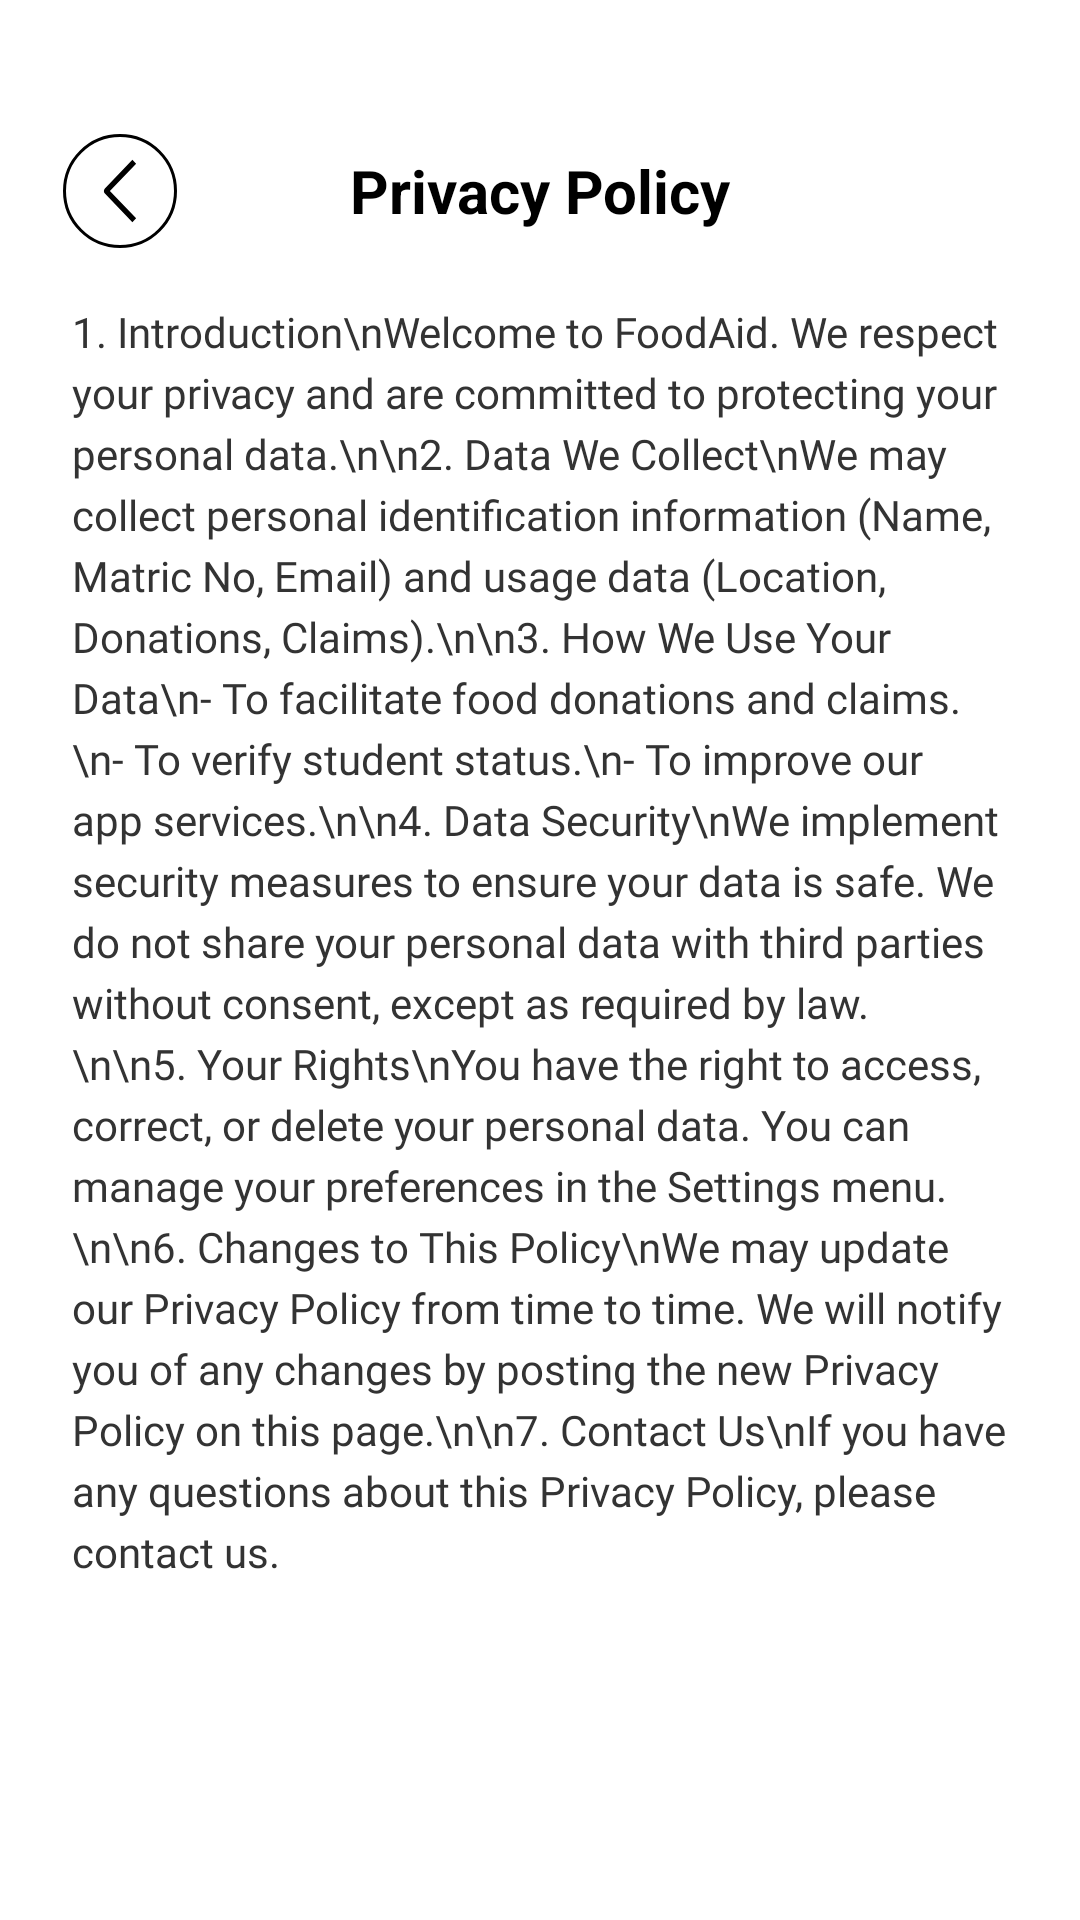

Icons on this 1080 x 1920 Android screen, each with the point to tap as (x=x, y=y):
Back: (x=120, y=191)
